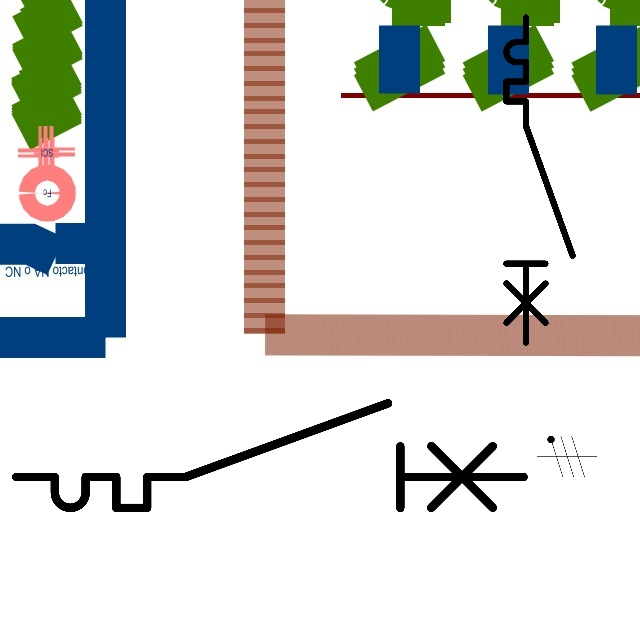interruptor_termomagnetico: (3, 390, 537, 521), (498, 9, 581, 351)
